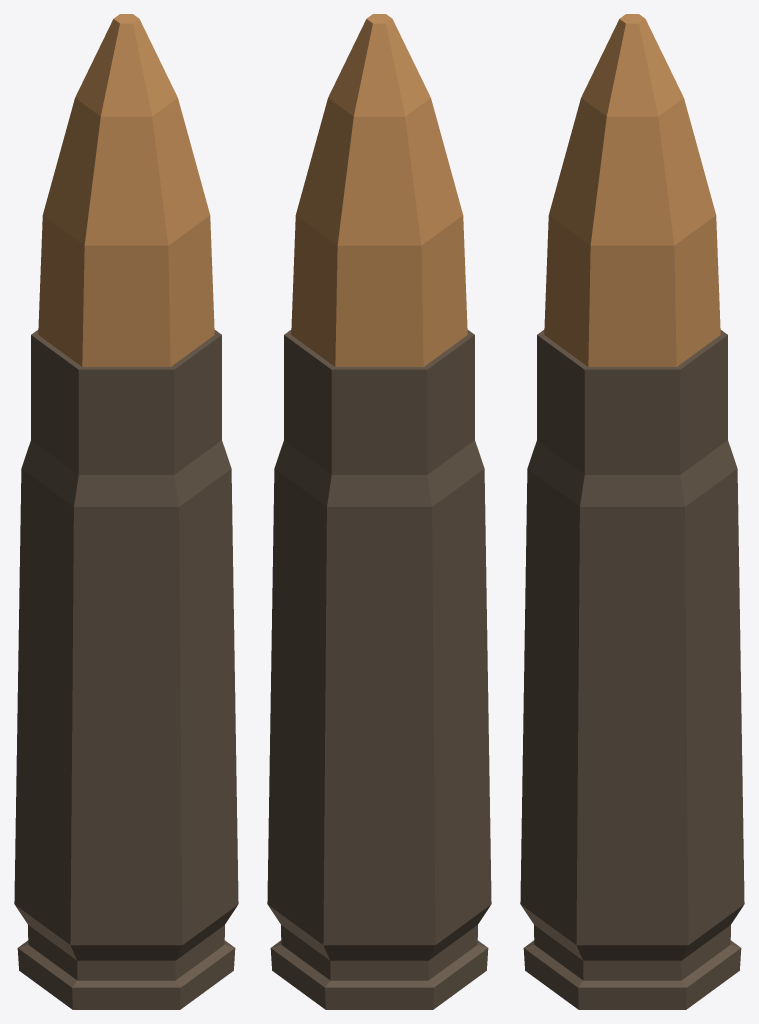
3 views of the same model, side by side, from view 1: azimuth 30°, elevation 25°; view 2: azimuth 150°, elevation 25°; view 3: azimuth 270°, elevation 25° (orthographic).
Visible parts, largest first — view 1: 7.62x39mm_Bullet_Cylinder.009; view 2: 7.62x39mm_Bullet_Cylinder.009; view 3: 7.62x39mm_Bullet_Cylinder.009.
Part boxes in pixels (left/top/right/bottom): 7.62x39mm_Bullet_Cylinder.009: left=14, top=14, right=238, bottom=1009; 7.62x39mm_Bullet_Cylinder.009: left=267, top=14, right=491, bottom=1009; 7.62x39mm_Bullet_Cylinder.009: left=520, top=14, right=744, bottom=1009.
Bounding box in the file's own units: 0.0721 × 0.39 × 0.0832.
